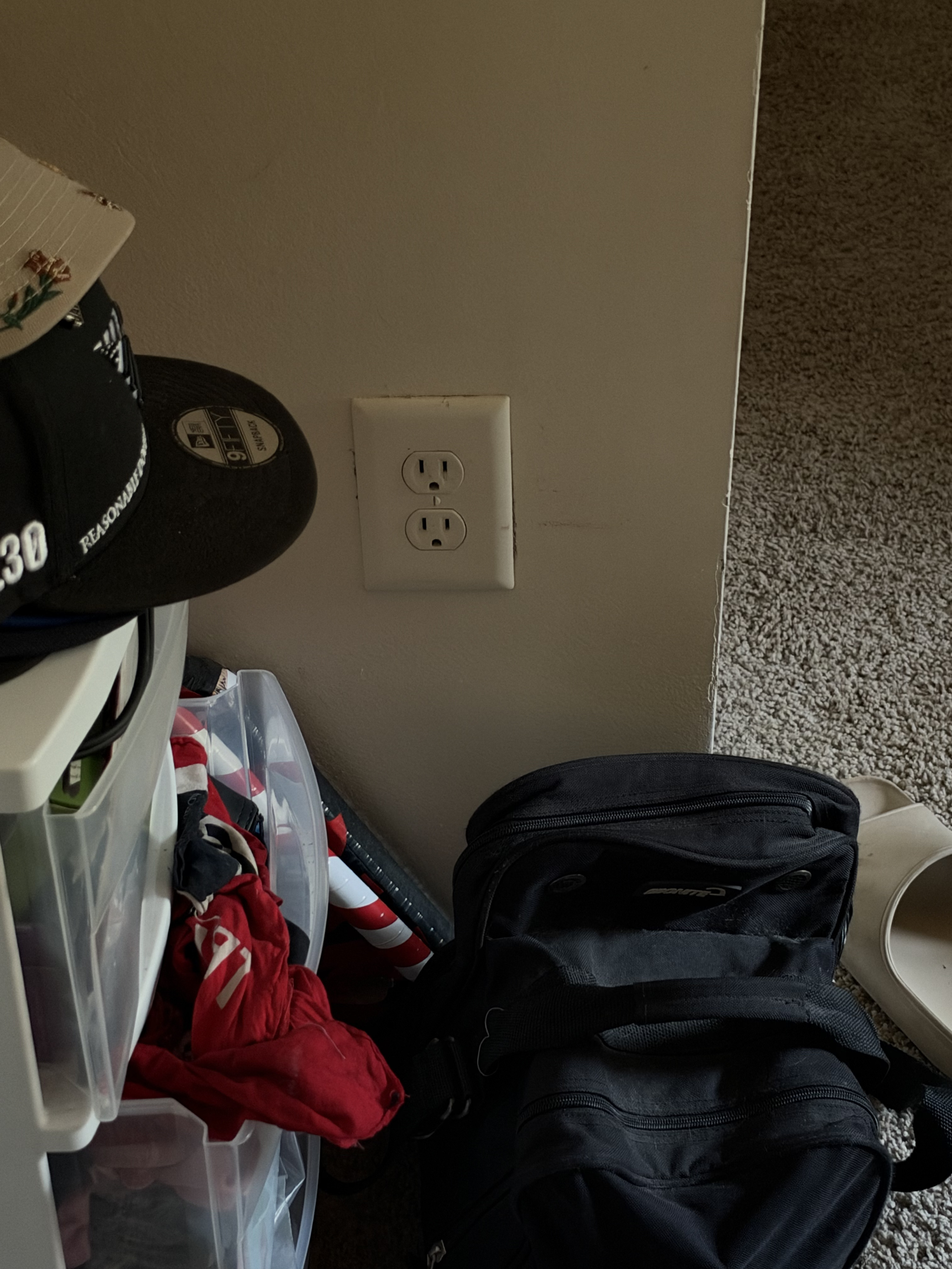outlet: (356, 398, 511, 587)
